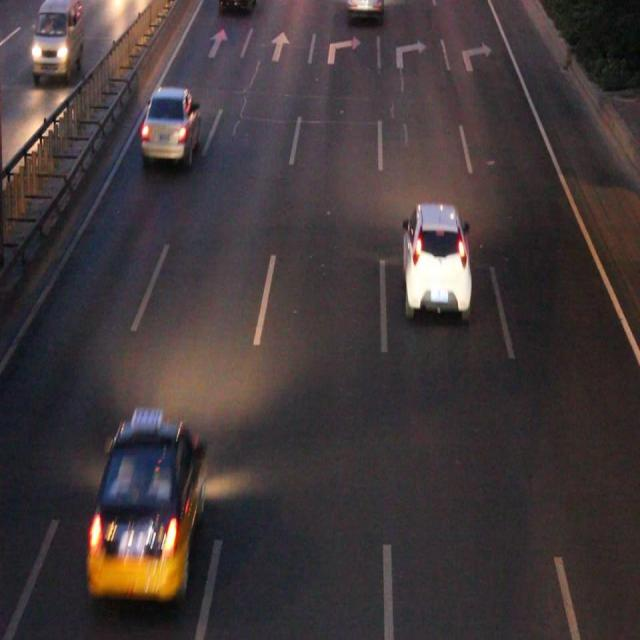car: (91, 422, 202, 591), (402, 206, 469, 313), (143, 89, 198, 160)
